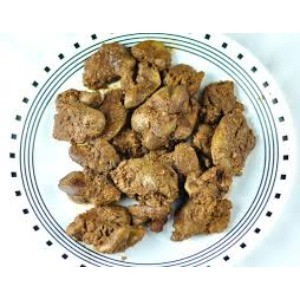liver_brain food: (65, 91, 231, 213)
